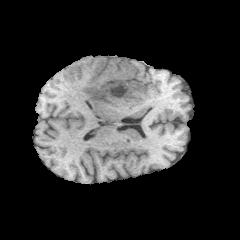glioma: (79, 65, 147, 106)
